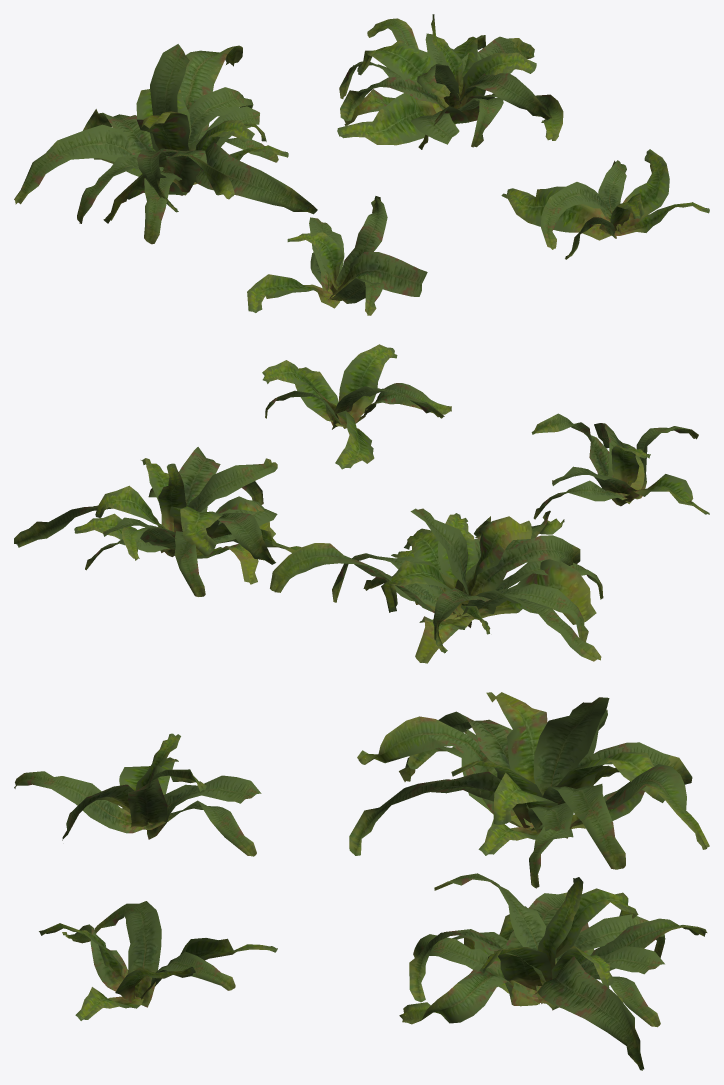
Rendered from samambaia.glb.
3 renders of one model, top to bottom at view 1: azimuth 30°, elevation 25°; view 2: azimuth 150°, elevation 25°; view 3: azimuth 270°, elevation 25°, orthographic. The views are drawn at different scales.
Parts seen in each view (by area): view 1: fern_02_b, fern_02_c, fern_02_d, fern_02_a; view 2: fern_02_b, fern_02_c, fern_02_d, fern_02_a; view 3: fern_02_b, fern_02_c, fern_02_a, fern_02_d.
Boxes of the visible parts, <box> form: fern_02_b: <box>14,44,317,244</box>; fern_02_c: <box>337,14,563,149</box>; fern_02_d: <box>501,149,709,259</box>; fern_02_a: <box>247,196,427,315</box>; fern_02_b: <box>270,508,603,663</box>; fern_02_c: <box>14,447,301,596</box>; fern_02_d: <box>262,344,451,469</box>; fern_02_a: <box>531,413,709,519</box>; fern_02_b: <box>349,692,709,888</box>; fern_02_c: <box>399,873,707,1070</box>; fern_02_a: <box>14,733,261,856</box>; fern_02_d: <box>39,901,277,1020</box>.
Bounding box in the file's own units: 1.97 × 0.4277 × 1.72.
Materials: 1 (1 with a texture image).
